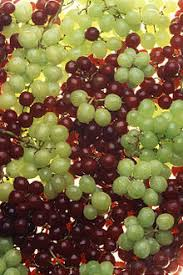Green grapes: (120, 208, 179, 258), (118, 154, 166, 206), (68, 88, 122, 127), (116, 47, 153, 89)
Red Grapes: (9, 180, 64, 252), (82, 26, 103, 45), (18, 91, 35, 105)
